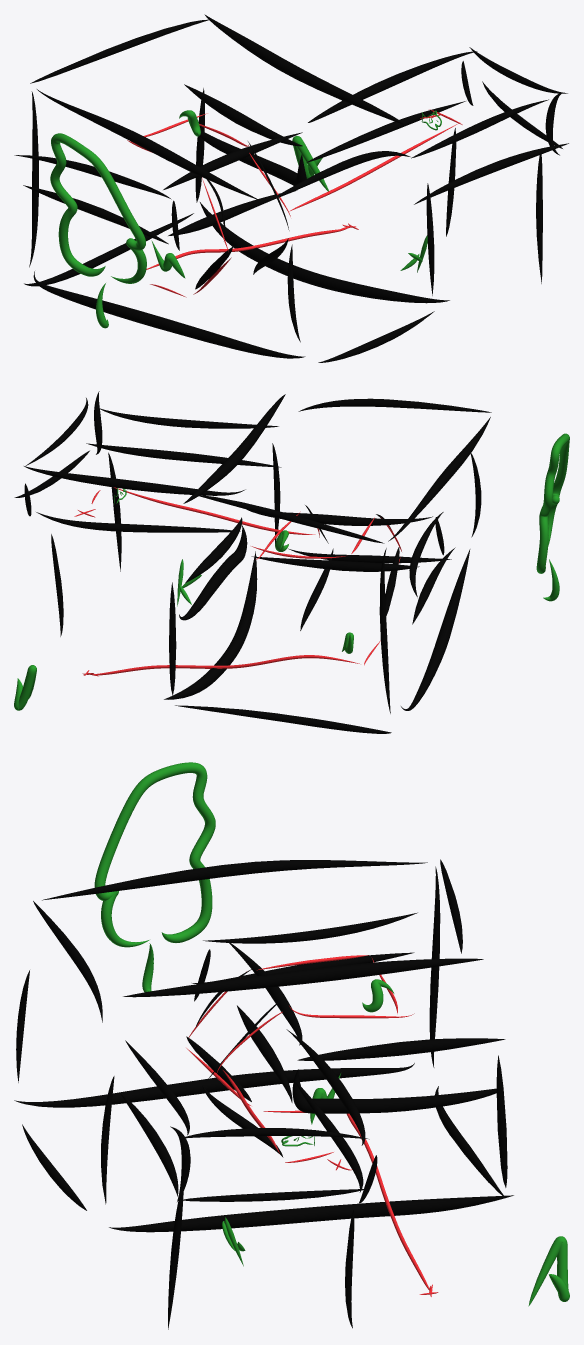
3 views of the same model, one above another, from view 1: azimuth 30°, elevation 25°; view 2: azimuth 150°, elevation 25°; view 3: azimuth 270°, elevation 25° (orthographic). The views are drawn at different scales.
Parts seen in each view (by area): view 1: s.0093, s.0036, s.0034, s.0039, s.0043, s.0054, s.0047, s.0042, s.0057, s.0046, s.0053, s.0050 (+18 smaller); view 2: s.0093, s.0034, s.0036, s.0054, s.0035, s.0039, s.0053, s.0045, s.0057, s.0048, s.0047, s.0043 (+17 smaller); view 3: s.0093, s.0034, s.0039, s.0036, s.0043, s.0047, s.0046, s.0052, s.0090, s.0059, s.0060, s.0041 (+15 smaller).
Boxes of the visible parts, bbox=[...] form: s.0093: bbox=[50, 133, 146, 283]; s.0036: bbox=[33, 271, 305, 358]; s.0034: bbox=[200, 202, 449, 303]; s.0039: bbox=[204, 14, 406, 125]; s.0043: bbox=[37, 89, 260, 200]; s.0054: bbox=[308, 51, 477, 122]; s.0047: bbox=[199, 130, 306, 185]; s.0042: bbox=[30, 19, 209, 83]; s.0057: bbox=[414, 143, 568, 204]; s.0046: bbox=[184, 84, 302, 146]; s.0053: bbox=[306, 101, 465, 162]; s.0050: bbox=[163, 132, 302, 189]; s.0093: bbox=[536, 433, 569, 573]; s.0034: bbox=[164, 551, 257, 699]; s.0036: bbox=[401, 549, 470, 710]; s.0054: bbox=[24, 466, 245, 495]; s.0035: bbox=[175, 705, 391, 733]; s.0039: bbox=[183, 394, 285, 503]; s.0053: bbox=[36, 512, 240, 532]; s.0045: bbox=[298, 398, 491, 412]; s.0057: bbox=[86, 443, 281, 467]; s.0048: bbox=[251, 556, 419, 571]; s.0047: bbox=[179, 525, 247, 620]; s.0043: bbox=[388, 417, 490, 541]; s.0093: bbox=[94, 762, 215, 947]; s.0034: bbox=[109, 1195, 513, 1232]; s.0039: bbox=[123, 958, 483, 997]; s.0036: bbox=[14, 1063, 414, 1107]; s.0043: bbox=[42, 860, 427, 900]; s.0047: bbox=[292, 1069, 496, 1113]; s.0046: bbox=[297, 1038, 505, 1060]; s.0052: bbox=[203, 912, 417, 943]; s.0090: bbox=[528, 1236, 569, 1306]; s.0059: bbox=[180, 1189, 366, 1201]; s.0060: bbox=[180, 1128, 369, 1139]; s.0041: bbox=[429, 866, 440, 1067].
Size of the model in its own units: 60.79 by 49.44 by 30.39.
